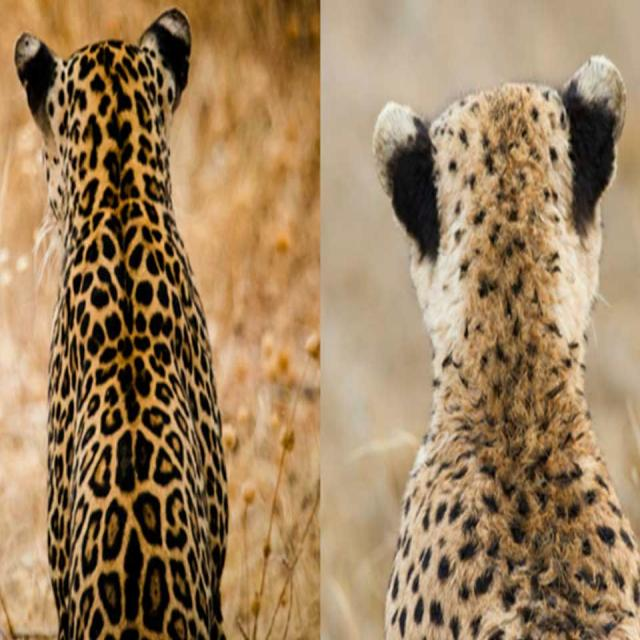leopard: (373, 57, 639, 639), (15, 9, 228, 639)
